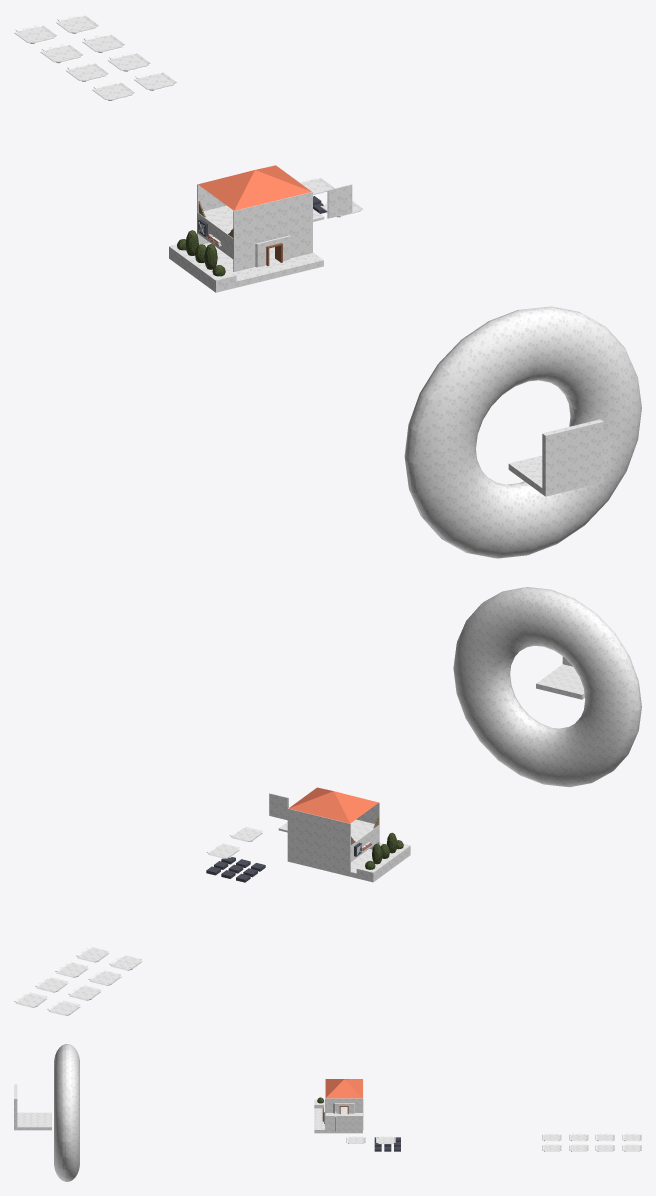
File: ChrisLevel2.fbx
3 views of the same model, one above another, from view 1: azimuth 30°, elevation 25°; view 2: azimuth 150°, elevation 25°; view 3: azimuth 270°, elevation 25° (orthographic). The views are drawn at different scales.
Visible parts, largest first — view 1: cylinder_donut_2, block_default_3, block_default_15, block_piramid_25, block_default_5, block_default_28, block_default_1, wall_doorwaySquare_8, wall_straight_69; view 2: cylinder_donut_2, block_default_21, block_piramid_25, block_default_1; view 3: cylinder_donut_2, block_piramid_25, block_default_1, block_default_55, block_default_5, block_default_19.
Boxes of the visible parts, bbox=[...] form: cylinder_donut_2: bbox=[404, 306, 641, 558]; block_default_3: bbox=[542, 419, 603, 496]; block_default_15: bbox=[233, 191, 312, 248]; block_piramid_25: bbox=[198, 165, 311, 210]; block_default_5: bbox=[203, 242, 323, 285]; block_default_28: bbox=[169, 244, 236, 286]; block_default_1: bbox=[508, 455, 542, 493]; wall_doorwaySquare_8: bbox=[255, 235, 290, 267]; wall_straight_69: bbox=[327, 184, 352, 218]; cylinder_donut_2: bbox=[453, 587, 641, 787]; block_default_21: bbox=[287, 808, 350, 872]; block_piramid_25: bbox=[289, 787, 378, 823]; block_default_1: bbox=[536, 664, 584, 699]; cylinder_donut_2: bbox=[54, 1044, 79, 1181]; block_piramid_25: bbox=[325, 1079, 362, 1098]; block_default_1: bbox=[17, 1112, 51, 1130]; block_default_55: bbox=[325, 1117, 362, 1129]; block_default_5: bbox=[314, 1110, 362, 1133]; block_default_19: bbox=[325, 1098, 362, 1105].
Bounding box in the file's own units: 201 × 200 × 907.
Materials: 10 (4 with a texture image).
